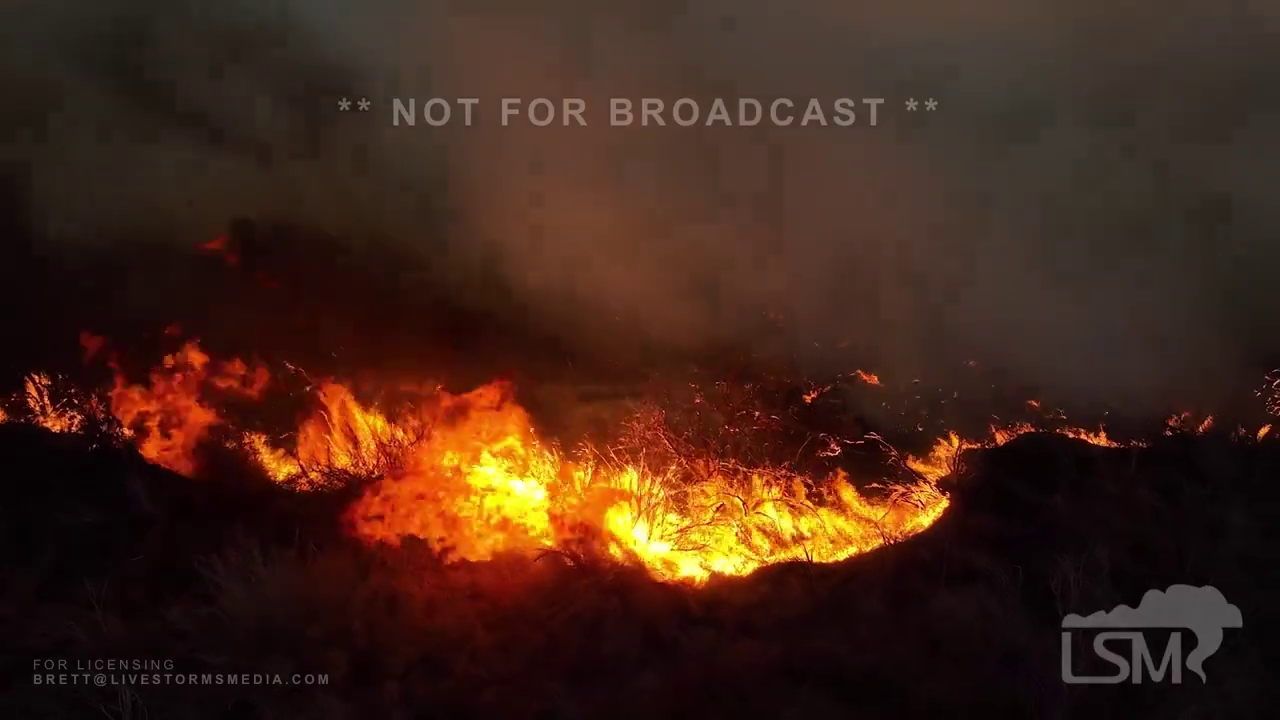forest_fire: (229, 382, 1146, 580), (0, 341, 268, 475), (1230, 423, 1279, 441)
